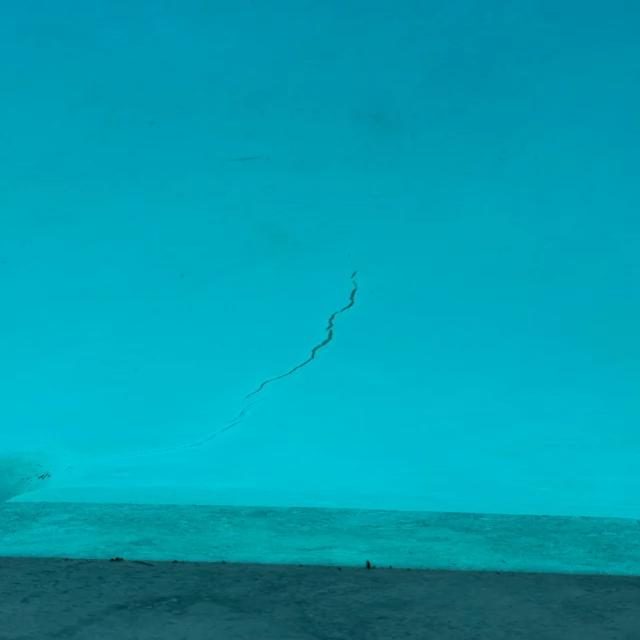crack: (237, 261, 368, 403), (115, 398, 266, 463)
